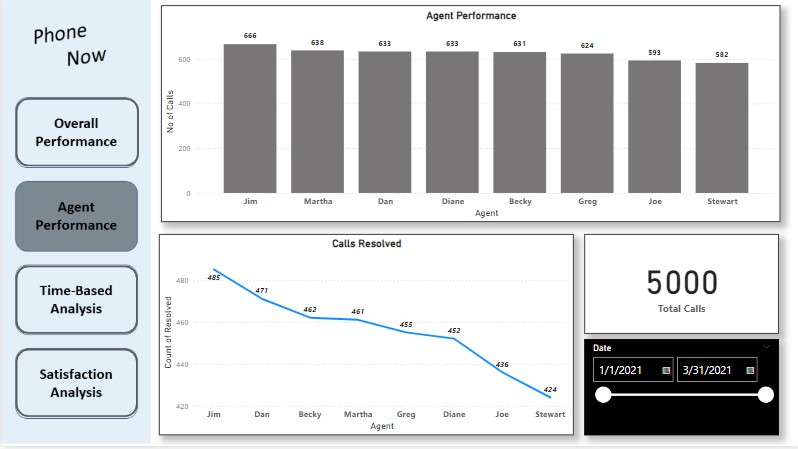

The dashboard page shown, as its layout file describes it:
{"tool":"powerbi","page":{"name":"Agent Performance","canvas":[1280,720],"ordinal":1},"visuals":[{"type":"actionButton","box":[22,430,196,110],"z":0},{"type":"actionButton","box":[22,564,196,110],"z":1000},{"type":"actionButton","box":[22,162,198,110],"z":2000},{"type":"columnChart","title":"Agent Performance","fields":{"Y":["CountNonNull(Call.Call Id)"],"Category":["Call.Agent"]},"box":[255,12.5,992.5,347.5],"z":3000},{"type":"lineChart","title":"Calls Resolved","fields":{"Category":["Call.Agent"],"Y":["CountNonNull(Call.Resolved)"]},"box":[252,380,664,322],"z":4000},{"type":"slicer","fields":{"Values":["Call.Date"]},"box":[934,548,312,154],"z":5000},{"type":"card","fields":{"Values":["CountNonNull(Call.Call Id)"]},"box":[934,380,312,160],"z":6000}]}

Visuals, with their boxes in screenshot pixels (x1, y1, x2, y2), scaled from the page's 1280x720 canvas onto the 798x449 screenshot:
actionButton: bbox(14, 268, 136, 337)
actionButton: bbox(14, 352, 136, 420)
actionButton: bbox(14, 101, 137, 170)
"Agent Performance" columnChart: bbox(159, 8, 778, 224)
"Calls Resolved" lineChart: bbox(157, 237, 571, 438)
slicer - Call.Date: bbox(582, 342, 777, 438)
card - CountNonNull(Call.Call Id): bbox(582, 237, 777, 337)
